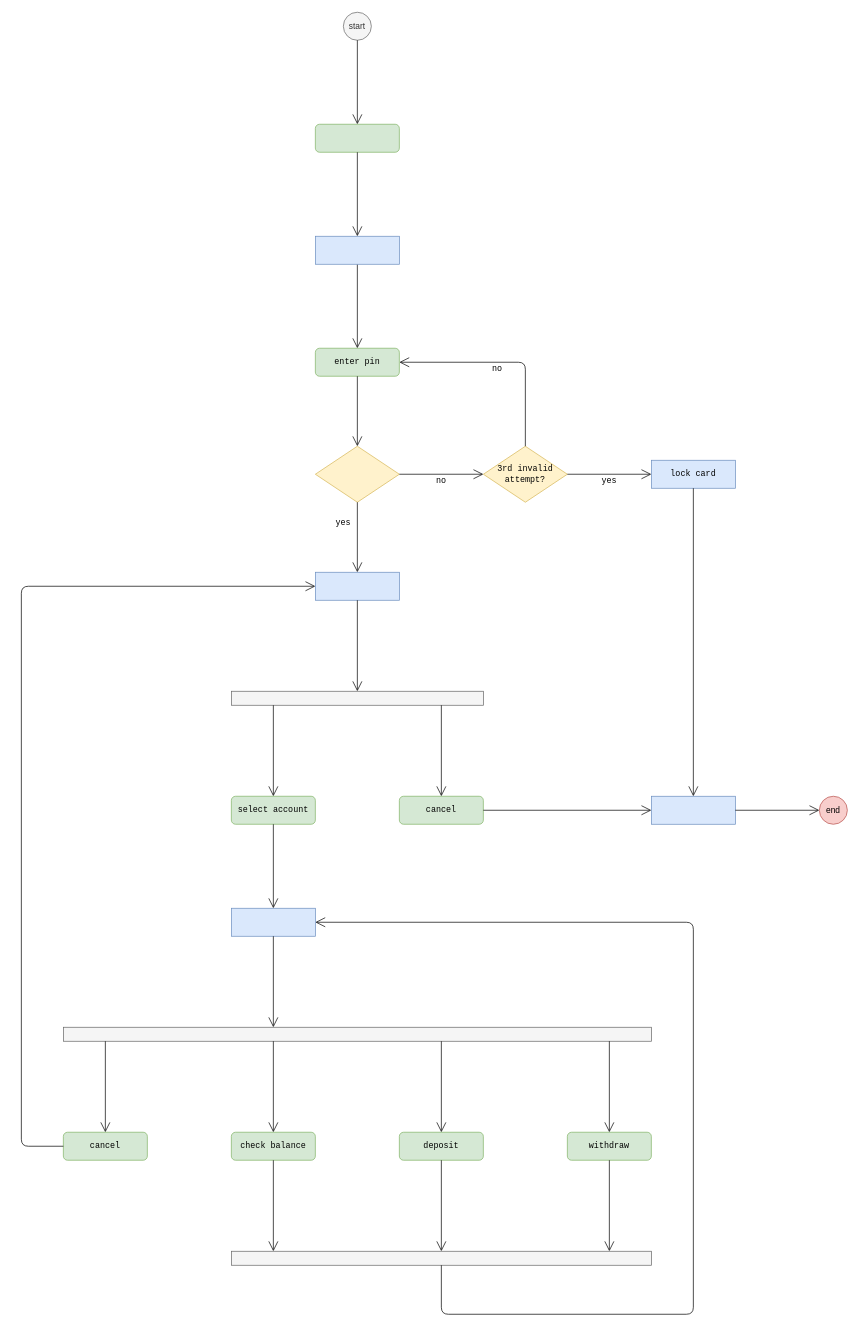
The diagram is 860 pixels wide and 1336 high, and some of its shapes have lost their labels. The shapes that lost their labels are listed below. From the top down, each one's box as (x1, y1, x2, y2) in pixels, then its label:
(315, 124, 399, 152): insert card
(315, 236, 399, 264): pin input screen
(315, 446, 399, 502): pin valid?
(315, 572, 399, 600): account selection screen
(651, 796, 735, 824): eject card
(231, 908, 315, 936): action selection screen
